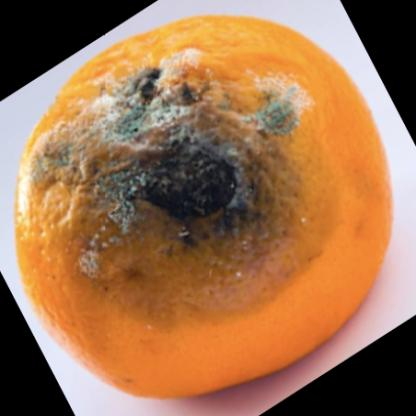rotten: (18, 15, 391, 398)
